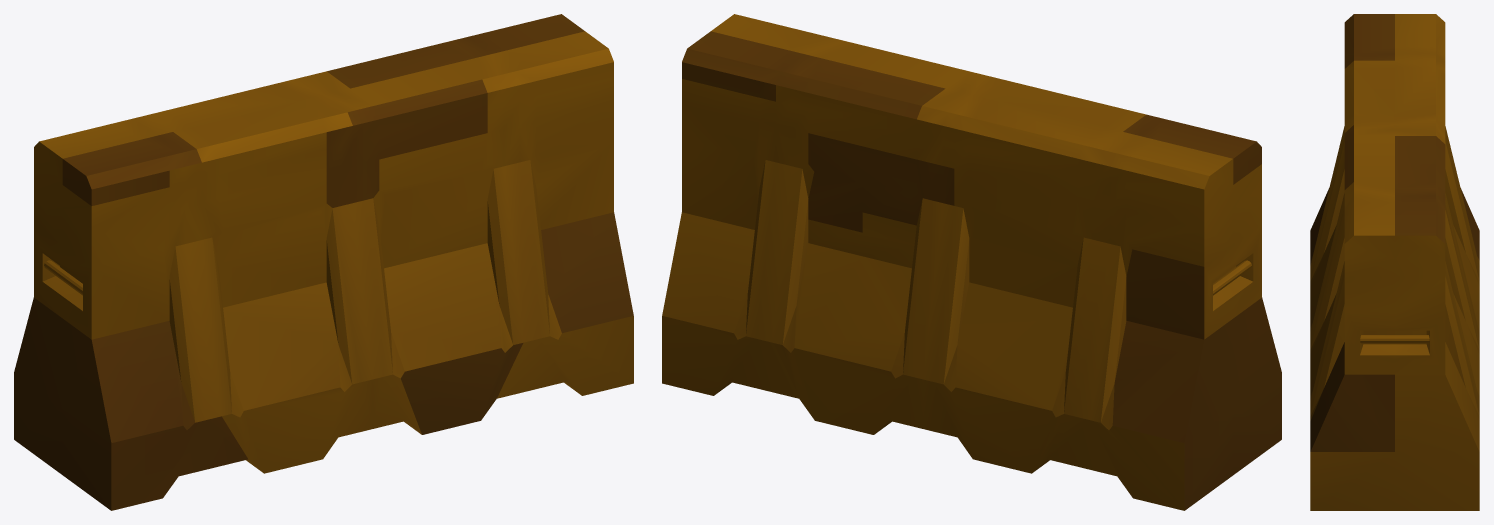
File: PlasticBarrier.glb
3 views of the same model, side by side, from view 1: azimuth 30°, elevation 25°; view 2: azimuth 150°, elevation 25°; view 3: azimuth 270°, elevation 25° (orthographic). The views are drawn at different scales.
Visible parts, largest first — view 1: PlasticBarrier; view 2: PlasticBarrier; view 3: PlasticBarrier.
Boxes of the visible parts, left/top/right/bottom form: PlasticBarrier: left=14, top=14, right=633, bottom=510; PlasticBarrier: left=662, top=14, right=1281, bottom=510; PlasticBarrier: left=1310, top=14, right=1479, bottom=510.
Size of the model in its own units: 1.04 by 0.5995 by 0.3339.
